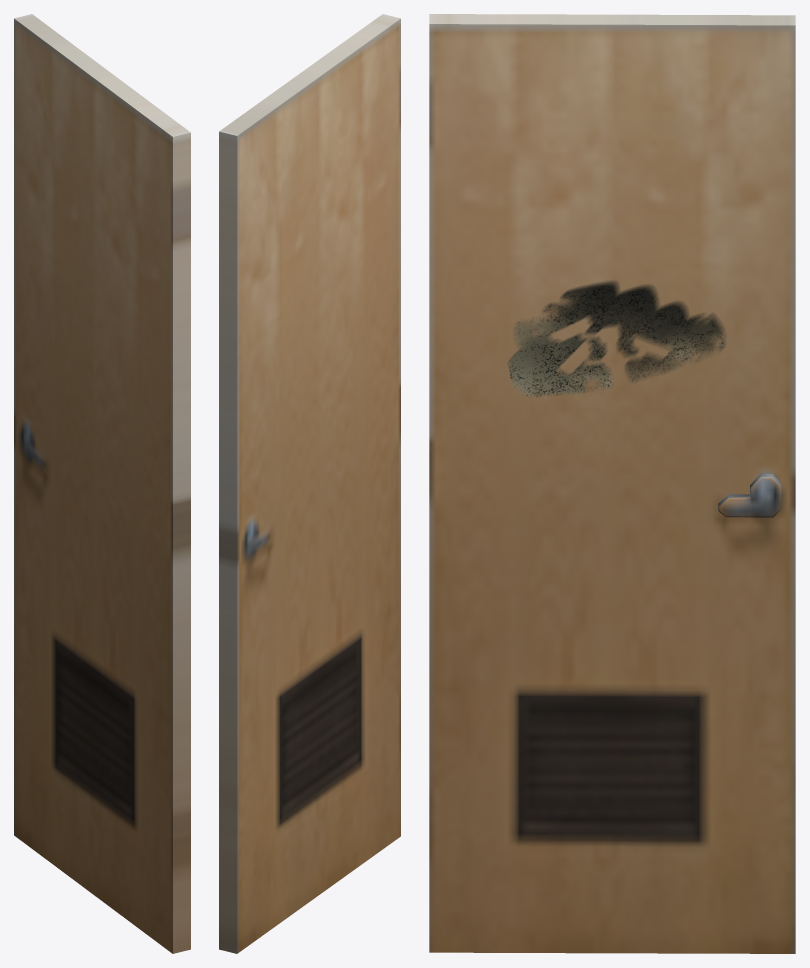
File: door.glb
3 views of the same model, side by side, from view 1: azimuth 30°, elevation 25°; view 2: azimuth 150°, elevation 25°; view 3: azimuth 270°, elevation 25° (orthographic). The views are drawn at different scales.
Visible parts, largest first — view 1: door_professional_01.003-col; view 2: door_professional_01.003-col; view 3: door_professional_01.003-col.
Part boxes in pixels (bbox=[...]): door_professional_01.003-col: bbox=[14, 14, 190, 953]; door_professional_01.003-col: bbox=[219, 14, 400, 953]; door_professional_01.003-col: bbox=[429, 14, 795, 953].
Bounding box in the file's own units: 0.0736 × 2.22 × 0.7931.
Materials: 2 (2 with a texture image).
